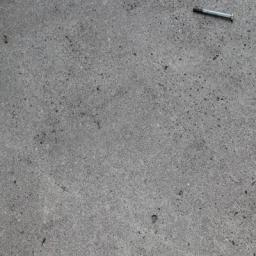FOD: (189, 3, 238, 28)
